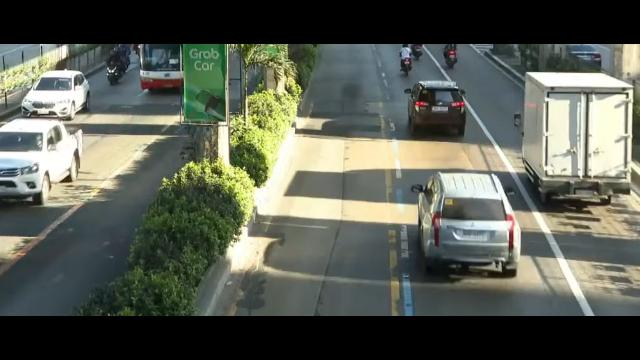bus: (128, 45, 182, 95)
car: (414, 171, 521, 276), (406, 78, 467, 151), (12, 68, 89, 122)
motorcycle: (105, 48, 123, 85), (398, 44, 413, 74), (118, 44, 132, 72), (443, 43, 456, 70), (410, 43, 425, 60)
pickup-truck: (0, 118, 82, 206)
truck: (512, 73, 640, 204)
